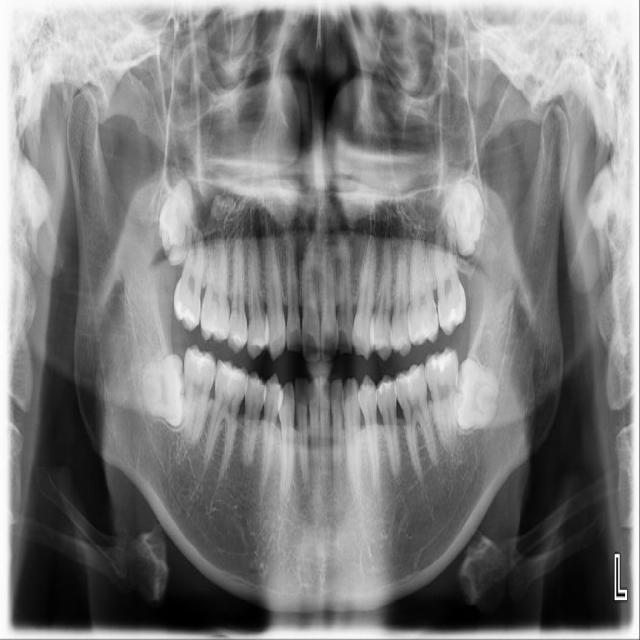Filling: (428, 349, 457, 372)
impacted tooth: (137, 355, 184, 425), (457, 361, 501, 431), (162, 171, 194, 264)
